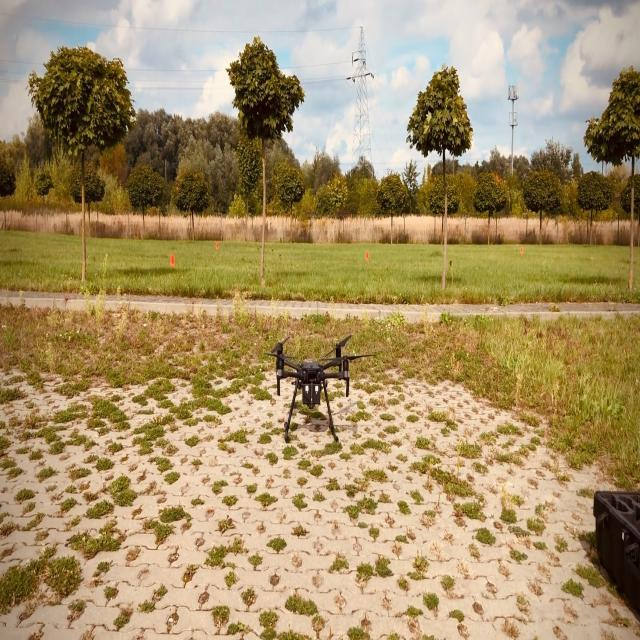drone: (268, 332, 376, 443)
